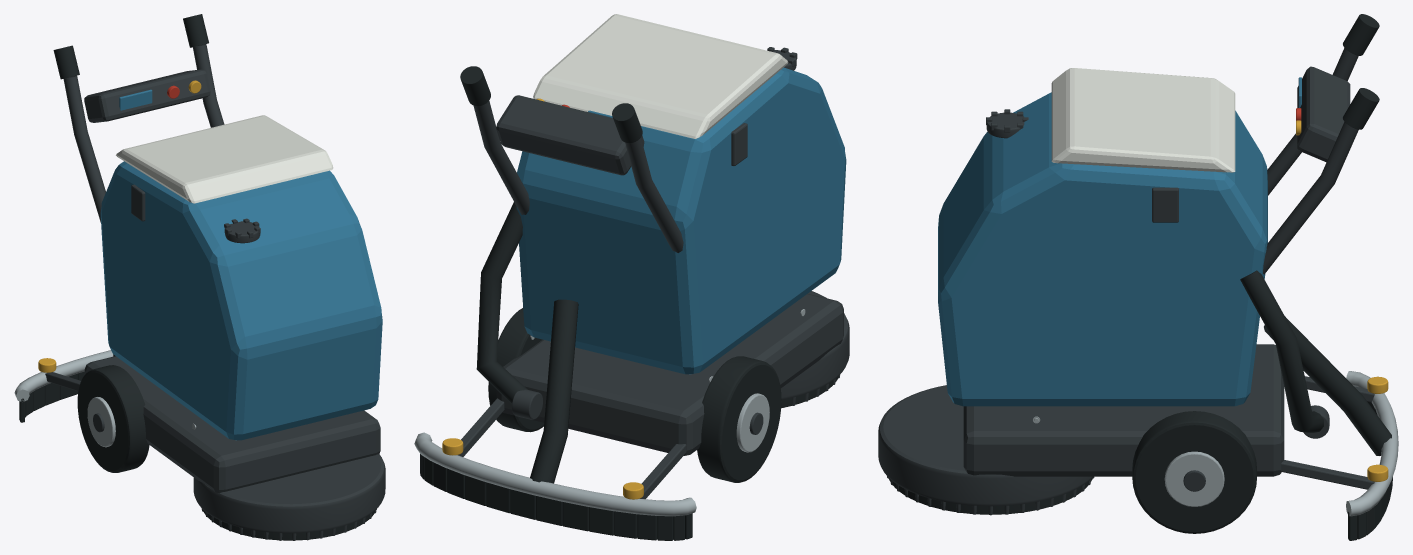
File: city-walk-behind-floor-scrubber.glb
3 views of the same model, side by side, from view 1: azimuth 30°, elevation 25°; view 2: azimuth 150°, elevation 25°; view 3: azimuth 270°, elevation 25° (orthographic). The views are drawn at different scales.
Parts seen in each view (by area): view 1: Assembly | Deep blue molded polymer, Assembly | Dark powder coated steel, Assembly | Ivory polymer, Assembly | Charcoal flexible rubber, Assembly | Brushed stainless fittings; view 2: Assembly | Deep blue molded polymer, Assembly | Dark powder coated steel, Assembly | Charcoal flexible rubber, Assembly | Ivory polymer, Assembly | Brushed stainless fittings, Assembly | Amber control insert; view 3: Assembly | Deep blue molded polymer, Assembly | Dark powder coated steel, Assembly | Charcoal flexible rubber, Assembly | Ivory polymer, Assembly | Brushed stainless fittings, Assembly | Amber control insert.
Part boxes in pixels (x1,y1,x2,y2): Assembly | Deep blue molded polymer: (100,89,382,440); Assembly | Dark powder coated steel: (45,44,385,540); Assembly | Ivory polymer: (116,115,333,203); Assembly | Charcoal flexible rubber: (19,14,376,540); Assembly | Brushed stainless fittings: (14,350,196,447); Assembly | Deep blue molded polymer: (516,67,846,374); Assembly | Dark powder coated steel: (458,47,849,499); Assembly | Charcoal flexible rubber: (420,66,838,540); Assembly | Ivory polymer: (533,14,788,138); Assembly | Brushed stainless fittings: (414,309,805,516); Assembly | Amber control insert: (442,98,643,499); Assembly | Deep blue molded polymer: (938,77,1301,406); Assembly | Dark powder coated steel: (878,48,1374,515); Assembly | Charcoal flexible rubber: (888,14,1392,540); Assembly | Ivory polymer: (1051,68,1235,172); Assembly | Brushed stainless fittings: (1033,371,1398,516); Assembly | Amber control insert: (1296,120,1388,481).
Bounding box in the file's own units: 0.7776 × 1.13 × 1.25.
